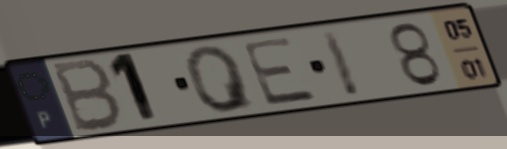1: (106, 50, 165, 127)
8: (385, 20, 444, 88)
B: (49, 56, 126, 136)
E: (238, 34, 323, 109)
I: (316, 26, 366, 101)
Q: (181, 43, 261, 116)
